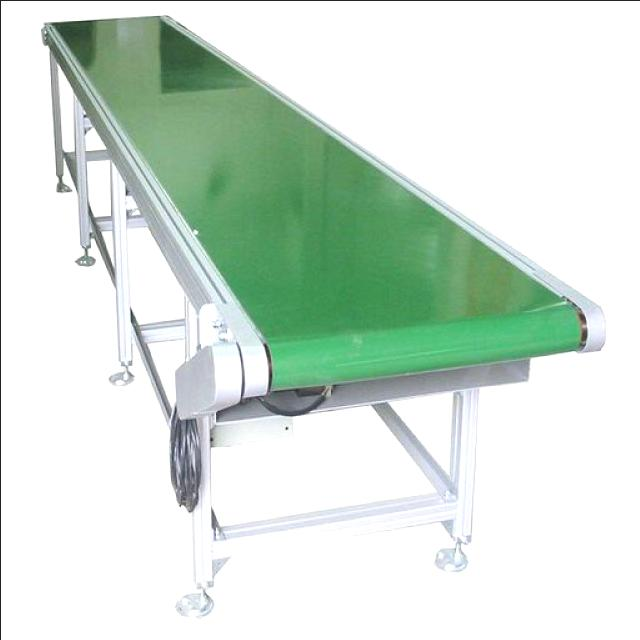conveyor: (52, 9, 593, 396)
